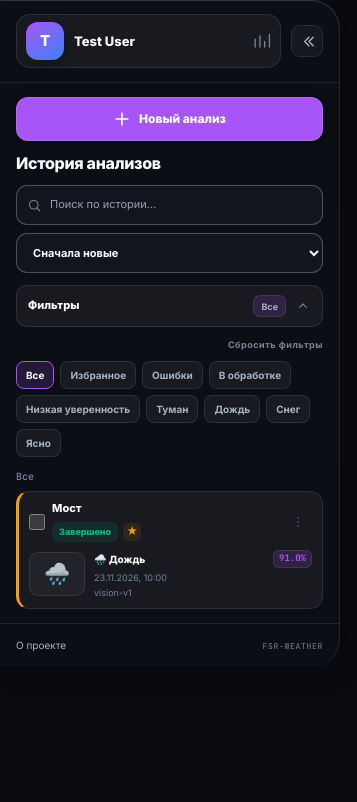
Test case: History sidebar actions menu › shows a remove-from-favorites action for selected favorite records
The image size is (357, 802).
Click the checkbox named "Выбрать запись Мост": (37, 522) [29,514,45,530]
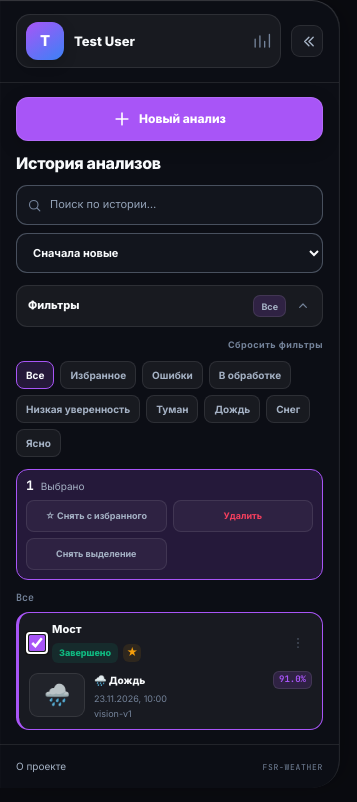
expect the button with aria-label "Снять выбранные записи с избранного" is shown: met
Click the button with aria-label "Снять выбранные записи с избранного": (96, 516) [26,500,166,532]
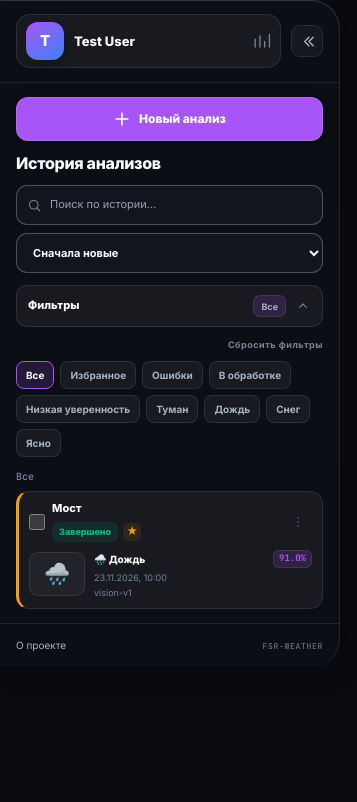
expect the checkbox named "Выбрать запись Мост" is not checked: met, box [29,514,45,530]
